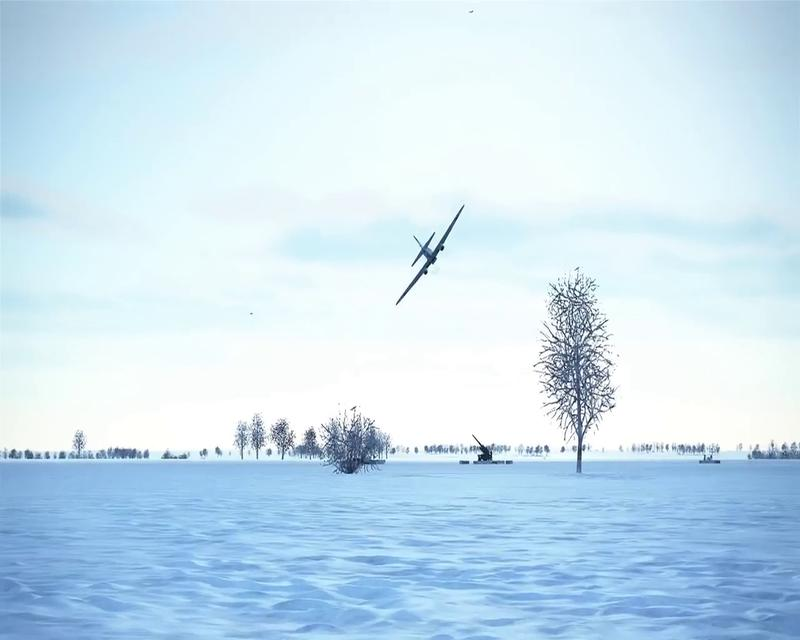UAV: (394, 202, 465, 305)
